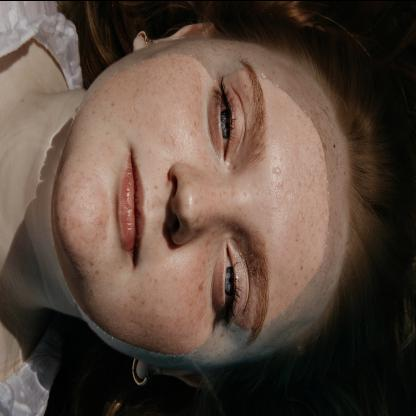Eye: (212, 242, 248, 325), (212, 74, 245, 160)
Mouth: (118, 150, 146, 268)
Nose: (168, 162, 232, 244)
